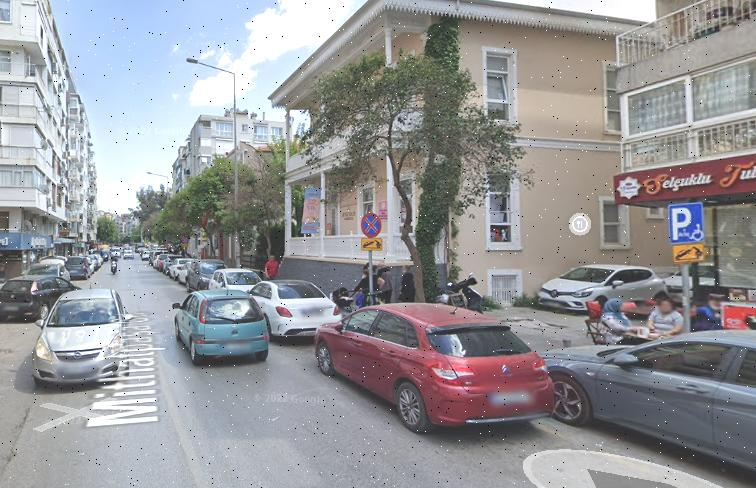disabledpark: (668, 201, 705, 243)
